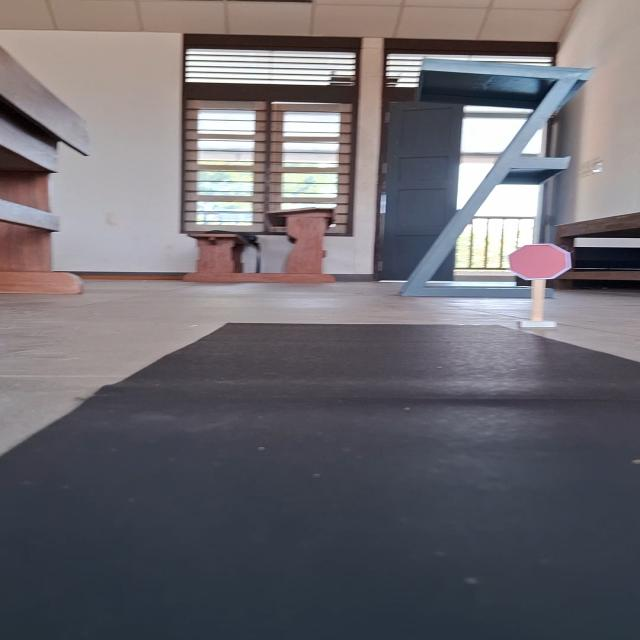Stop: (506, 242, 574, 281)
